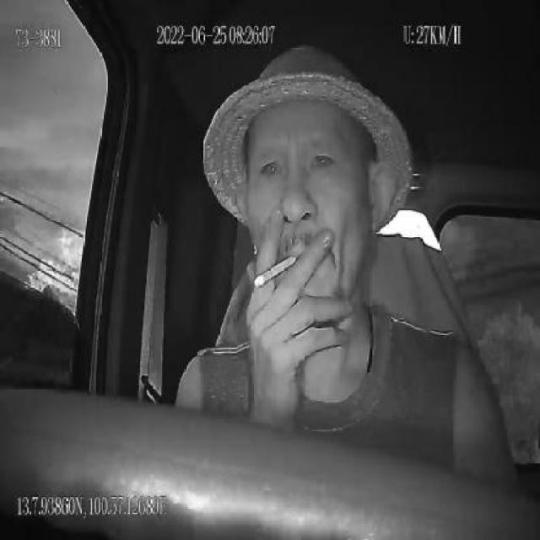smoking: (254, 252, 298, 288)
